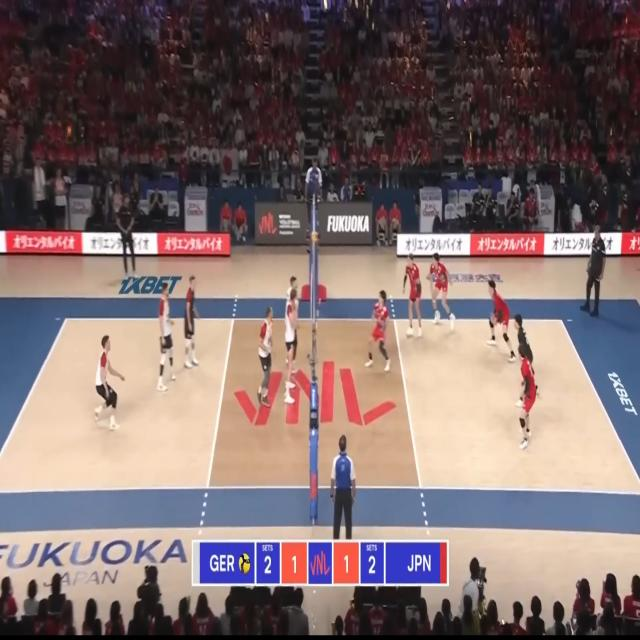ball: (311, 231, 318, 243)
